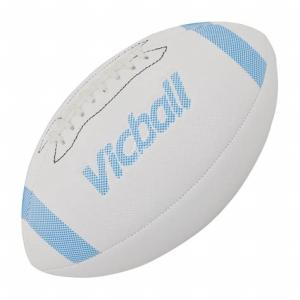Rugby: (21, 21, 278, 278)
